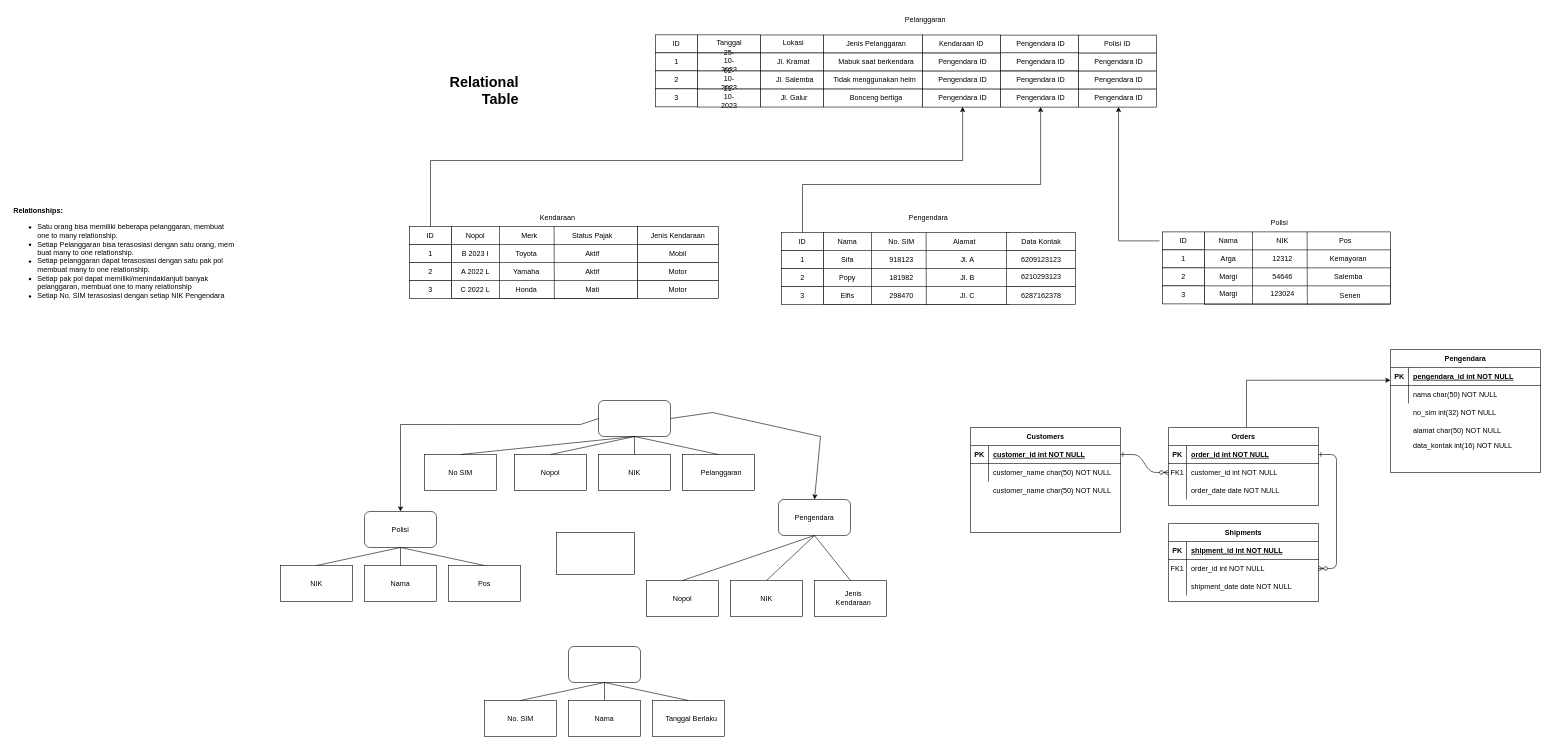
Image size: 1551x747. Some labels were removed from this diagram. The shapes that lost their labels are listed below. From the top down, each one's centre as x and y in pixels, then its label:
(x=634, y=418): Tilang
(x=595, y=553): Hierarchy Table .
(x=604, y=664): SIM
